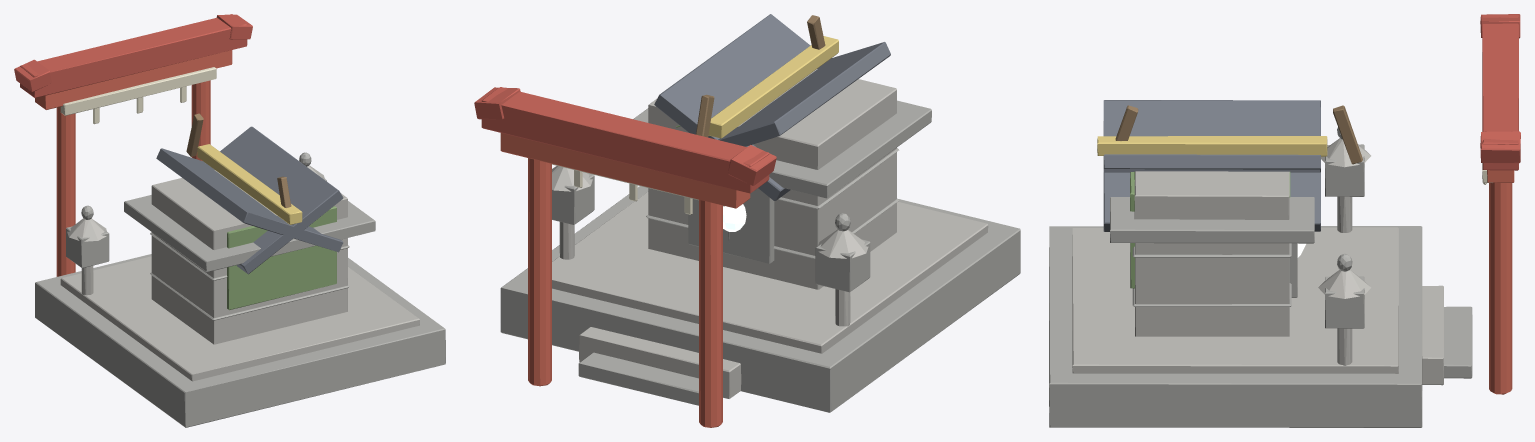
The model's file is shrine.glb.
3 views of the same model, side by side, from view 1: azimuth 30°, elevation 25°; view 2: azimuth 150°, elevation 25°; view 3: azimuth 270°, elevation 25° (orthographic). The views are drawn at different scales.
Parts seen in each view (by area): view 1: shrine; view 2: shrine; view 3: shrine.
Part boxes in pixels (box(x1,y1,x2,y2)): shrine: box(14, 14, 445, 427); shrine: box(474, 14, 1020, 427); shrine: box(1049, 14, 1520, 427).
Bounding box in the file's own units: 2.4 × 1.94 × 3.03.
